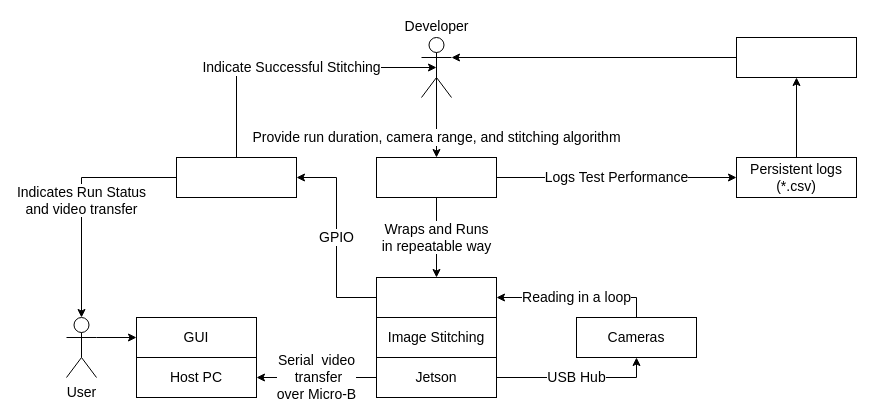
This 874x419 diagram has some shape labels left out. The shapes that lost their labels are listed below. From the top down, each one's box as (x1, y1, x2, y2) in pixels, then its label:
(736, 36, 856, 78): Log Parser/Data Analysis + Metrics
(176, 156, 296, 198): LEDs
(376, 156, 496, 198): Testing Program
(376, 276, 496, 318): Main Program
